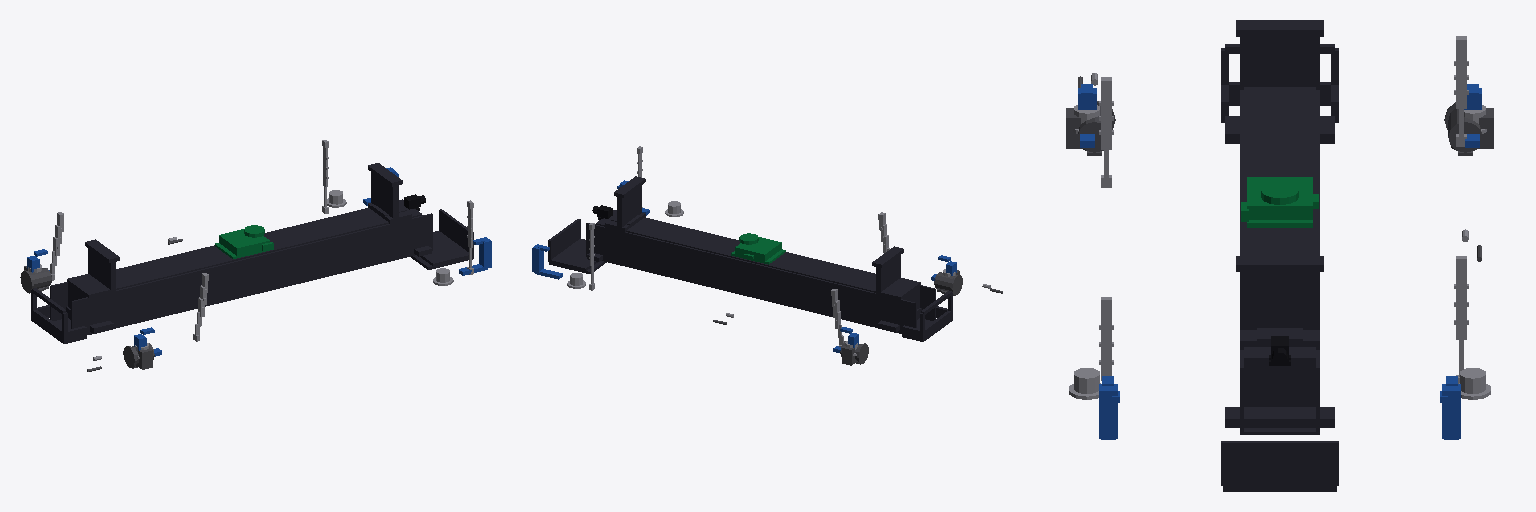
URDF robot description (f1tenth):
<?xml version="1.0"?>
<!--
  RViz-only F1TENTH description. Every joint is fixed and no node publishes
  joint states, so the car sits motionless at base_link: a static model for
  inspecting geometry/placement (see launch/display.launch.py). No Gazebo,
  sensor, plugin, or actuator-coupling elements (a spec non-goal here).

  Joint offsets are the source of truth for vehicle geometry and MUST stay put:
  wheelbase 0.3302 m, track 0.2032 m (0.12065 m each side), wheel radius
  0.0508 m. All meshes are cosmetic and are authored in base_link coordinates
  (see scripts/generate_f1tenth_meshes.py), so each new link's joint origin is
  identity and the mesh renders exactly where it was generated.

  Mesh provenance is documented in meshes/NOTICE.md: hokuyo.stl (the LIDAR),
  left_wheel.stl and right_wheel.stl come from f1tenth-dev/simulator (Apache
  2.0). Everything else (chassis, Jetson board, battery, suspension A-arms,
  shocks, hubs, camera, motors) is originally generated by
  scripts/generate_f1tenth_meshes.py and carries no license concern.

  Run scripts/render_urdf.py after any urdf/mesh edit to sanity-check
  proportions against a reference photo without a live RViz session.
-->
<robot name="f1tenth">

  <material name="laser_grey">
    <color rgba="0.25 0.25 0.27 1.0"/>
  </material>
  <material name="mount_grey">
    <color rgba="0.55 0.55 0.58 1.0"/>
  </material>
  <material name="chassis_grey">
    <color rgba="0.18 0.18 0.22 1.0"/>
  </material>
  <material name="wheel_black">
    <color rgba="0.05 0.05 0.05 1.0"/>
  </material>
  <material name="jetson_green">
    <color rgba="0.06 0.45 0.25 1.0"/>
  </material>
  <material name="battery_black">
    <color rgba="0.08 0.08 0.10 1.0"/>
  </material>
  <material name="camera_dark">
    <color rgba="0.10 0.10 0.12 1.0"/>
  </material>
  <material name="suspension_blue">
    <color rgba="0.15 0.35 0.65 1.0"/>
  </material>
  <material name="motor_metal">
    <color rgba="0.32 0.32 0.34 1.0"/>
  </material>

  <link name="base_link">
    <visual>
      <geometry>
        <mesh filename="package://racing_vehicle_description/meshes/chassis.stl"/>
      </geometry>
      <material name="chassis_grey"/>
    </visual>
  </link>

  <link name="jetson_board">
    <visual>
      <geometry>
        <mesh filename="package://racing_vehicle_description/meshes/jetson_board.stl"/>
      </geometry>
      <material name="jetson_green"/>
    </visual>
  </link>
  <joint name="base_link_to_jetson_board" type="fixed">
    <parent link="base_link"/>
    <child link="jetson_board"/>
  </joint>

  <link name="battery_pack">
    <visual>
      <geometry>
        <mesh filename="package://racing_vehicle_description/meshes/battery_pack.stl"/>
      </geometry>
      <material name="battery_black"/>
    </visual>
  </link>
  <joint name="base_link_to_battery_pack" type="fixed">
    <parent link="base_link"/>
    <child link="battery_pack"/>
  </joint>

  <link name="camera">
    <visual>
      <geometry>
        <mesh filename="package://racing_vehicle_description/meshes/camera_box.stl"/>
      </geometry>
      <material name="camera_dark"/>
    </visual>
  </link>
  <joint name="base_link_to_camera" type="fixed">
    <parent link="base_link"/>
    <child link="camera"/>
  </joint>

  <link name="left_rear_wheel">
    <visual>
      <origin xyz="0 0 0.0225" rpy="0 0 0"/>
      <geometry>
        <mesh filename="package://racing_vehicle_description/meshes/left_wheel.stl"/>
      </geometry>
      <material name="wheel_black"/>
    </visual>
  </link>
  <joint name="base_link_to_left_rear_wheel" type="fixed">
    <parent link="base_link"/>
    <child link="left_rear_wheel"/>
    <origin xyz="-0.0508 0.12065 0.0508" rpy="1.5708 0 0"/>
  </joint>

  <link name="right_rear_wheel">
    <visual>
      <origin xyz="0 0 0.0225" rpy="0 0 0"/>
      <geometry>
        <mesh filename="package://racing_vehicle_description/meshes/right_wheel.stl"/>
      </geometry>
      <material name="wheel_black"/>
    </visual>
  </link>
  <joint name="base_link_to_right_rear_wheel" type="fixed">
    <parent link="base_link"/>
    <child link="right_rear_wheel"/>
    <origin xyz="-0.0508 -0.12065 0.0508" rpy="1.5708 0 0"/>
  </joint>

  <link name="motor_left">
    <visual>
      <geometry>
        <mesh filename="package://racing_vehicle_description/meshes/motor_left.stl"/>
      </geometry>
      <material name="motor_metal"/>
    </visual>
  </link>
  <joint name="base_link_to_motor_left" type="fixed">
    <parent link="base_link"/>
    <child link="motor_left"/>
  </joint>

  <link name="motor_right">
    <visual>
      <geometry>
        <mesh filename="package://racing_vehicle_description/meshes/motor_right.stl"/>
      </geometry>
      <material name="motor_metal"/>
    </visual>
  </link>
  <joint name="base_link_to_motor_right" type="fixed">
    <parent link="base_link"/>
    <child link="motor_right"/>
  </joint>

  <link name="rear_suspension_left">
    <visual>
      <geometry>
        <mesh filename="package://racing_vehicle_description/meshes/rear_susp_left.stl"/>
      </geometry>
      <material name="suspension_blue"/>
    </visual>
  </link>
  <joint name="base_link_to_rear_suspension_left" type="fixed">
    <parent link="base_link"/>
    <child link="rear_suspension_left"/>
  </joint>

  <link name="rear_suspension_right">
    <visual>
      <geometry>
        <mesh filename="package://racing_vehicle_description/meshes/rear_susp_right.stl"/>
      </geometry>
      <material name="suspension_blue"/>
    </visual>
  </link>
  <joint name="base_link_to_rear_suspension_right" type="fixed">
    <parent link="base_link"/>
    <child link="rear_suspension_right"/>
  </joint>

  <link name="rear_shock_left">
    <visual>
      <geometry>
        <mesh filename="package://racing_vehicle_description/meshes/rear_shock_left.stl"/>
      </geometry>
      <material name="mount_grey"/>
    </visual>
  </link>
  <joint name="base_link_to_rear_shock_left" type="fixed">
    <parent link="base_link"/>
    <child link="rear_shock_left"/>
  </joint>

  <link name="rear_shock_right">
    <visual>
      <geometry>
        <mesh filename="package://racing_vehicle_description/meshes/rear_shock_right.stl"/>
      </geometry>
      <material name="mount_grey"/>
    </visual>
  </link>
  <joint name="base_link_to_rear_shock_right" type="fixed">
    <parent link="base_link"/>
    <child link="rear_shock_right"/>
  </joint>

  <link name="rear_hub_left">
    <visual>
      <geometry>
        <mesh filename="package://racing_vehicle_description/meshes/rear_hub_left.stl"/>
      </geometry>
      <material name="mount_grey"/>
    </visual>
  </link>
  <joint name="base_link_to_rear_hub_left" type="fixed">
    <parent link="base_link"/>
    <child link="rear_hub_left"/>
  </joint>

  <link name="rear_hub_right">
    <visual>
      <geometry>
        <mesh filename="package://racing_vehicle_description/meshes/rear_hub_right.stl"/>
      </geometry>
      <material name="mount_grey"/>
    </visual>
  </link>
  <joint name="base_link_to_rear_hub_right" type="fixed">
    <parent link="base_link"/>
    <child link="rear_hub_right"/>
  </joint>

  <link name="left_steering_hinge"/>
  <joint name="base_link_to_left_steering_hinge" type="fixed">
    <parent link="base_link"/>
    <child link="left_steering_hinge"/>
    <origin xyz="0.3810 0.12065 0.0508" rpy="0 0 0"/>
  </joint>

  <link name="right_steering_hinge"/>
  <joint name="base_link_to_right_steering_hinge" type="fixed">
    <parent link="base_link"/>
    <child link="right_steering_hinge"/>
    <origin xyz="0.3810 -0.12065 0.0508" rpy="0 0 0"/>
  </joint>

  <link name="left_front_wheel">
    <visual>
      <origin xyz="0 0 0.0225" rpy="0 0 0"/>
      <geometry>
        <mesh filename="package://racing_vehicle_description/meshes/left_wheel.stl"/>
      </geometry>
      <material name="wheel_black"/>
    </visual>
  </link>
  <joint name="left_steering_hinge_to_left_front_wheel" type="fixed">
    <parent link="left_steering_hinge"/>
    <child link="left_front_wheel"/>
    <origin xyz="0 0 0" rpy="1.5708 0 0"/>
  </joint>

  <link name="right_front_wheel">
    <visual>
      <origin xyz="0 0 0.0225" rpy="0 0 0"/>
      <geometry>
        <mesh filename="package://racing_vehicle_description/meshes/right_wheel.stl"/>
      </geometry>
      <material name="wheel_black"/>
    </visual>
  </link>
  <joint name="right_steering_hinge_to_right_front_wheel" type="fixed">
    <parent link="right_steering_hinge"/>
    <child link="right_front_wheel"/>
    <origin xyz="0 0 0" rpy="1.5708 0 0"/>
  </joint>

  <link name="front_suspension_left">
    <visual>
      <geometry>
        <mesh filename="package://racing_vehicle_description/meshes/front_susp_left.stl"/>
      </geometry>
      <material name="suspension_blue"/>
    </visual>
  </link>
  <joint name="base_link_to_front_suspension_left" type="fixed">
    <parent link="base_link"/>
    <child link="front_suspension_left"/>
  </joint>

  <link name="front_suspension_right">
    <visual>
      <geometry>
        <mesh filename="package://racing_vehicle_description/meshes/front_susp_right.stl"/>
      </geometry>
      <material name="suspension_blue"/>
    </visual>
  </link>
  <joint name="base_link_to_front_suspension_right" type="fixed">
    <parent link="base_link"/>
    <child link="front_suspension_right"/>
  </joint>

  <link name="front_shock_left">
    <visual>
      <geometry>
        <mesh filename="package://racing_vehicle_description/meshes/front_shock_left.stl"/>
      </geometry>
      <material name="mount_grey"/>
    </visual>
  </link>
  <joint name="base_link_to_front_shock_left" type="fixed">
    <parent link="base_link"/>
    <child link="front_shock_left"/>
  </joint>

  <link name="front_shock_right">
    <visual>
      <geometry>
        <mesh filename="package://racing_vehicle_description/meshes/front_shock_right.stl"/>
      </geometry>
      <material name="mount_grey"/>
    </visual>
  </link>
  <joint name="base_link_to_front_shock_right" type="fixed">
    <parent link="base_link"/>
    <child link="front_shock_right"/>
  </joint>

  <link name="front_hub_left">
    <visual>
      <geometry>
        <mesh filename="package://racing_vehicle_description/meshes/front_hub_left.stl"/>
      </geometry>
      <material name="mount_grey"/>
    </visual>
  </link>
  <joint name="base_link_to_front_hub_left" type="fixed">
    <parent link="base_link"/>
    <child link="front_hub_left"/>
  </joint>

  <link name="front_hub_right">
    <visual>
      <geometry>
        <mesh filename="package://racing_vehicle_description/meshes/front_hub_right.stl"/>
      </geometry>
      <material name="mount_grey"/>
    </visual>
  </link>
  <joint name="base_link_to_front_hub_right" type="fixed">
    <parent link="base_link"/>
    <child link="front_hub_right"/>
  </joint>

  <link name="laser">
    <visual>
      <geometry>
        <mesh filename="package://racing_vehicle_description/meshes/hokuyo.stl"
               scale="0.12 0.12 0.12"/>
      </geometry>
      <material name="laser_grey"/>
    </visual>
  </link>
  <joint name="base_link_to_laser" type="fixed">
    <parent link="base_link"/>
    <child link="laser"/>
    <origin xyz="0.275 0.0 0.105" rpy="0 0 0"/>
  </joint>

</robot>

--- What the picture shows (computed from the rendered views, not written in the file) ---
Views: 3 orthographic renders of the robot side by side, from view 1: azimuth 30°, elevation 25°; view 2: azimuth 150°, elevation 25°; view 3: azimuth 270°, elevation 25°.
Robot: f1tenth — 25 links, 24 joints (24 fixed); root link base_link; default pose: all joints at 0.
Links seen in each view (by area): view 1: base_link, jetson_board, motor_right, motor_left, front_suspension_right; view 2: base_link, jetson_board, motor_right; view 3: base_link, jetson_board, motor_left, front_suspension_left, front_suspension_right, front_shock_left, rear_shock_right, rear_shock_left, motor_right, front_shock_right, front_hub_left, front_hub_right (+3 smaller).
Boxes of the visible links, <box> form: base_link: <box>31,163,473,343</box>; jetson_board: <box>215,225,273,258</box>; motor_right: <box>87,343,154,371</box>; motor_left: <box>20,239,182,293</box>; front_suspension_right: <box>459,237,491,275</box>; base_link: <box>548,176,952,341</box>; jetson_board: <box>731,233,785,264</box>; motor_right: <box>934,270,1002,295</box>; base_link: <box>1221,20,1338,491</box>; jetson_board: <box>1241,177,1318,227</box>; motor_left: <box>1444,102,1493,261</box>; front_suspension_left: <box>1440,376,1460,439</box>; front_suspension_right: <box>1099,376,1119,439</box>; front_shock_left: <box>1454,256,1468,383</box>; rear_shock_right: <box>1099,77,1113,187</box>; rear_shock_left: <box>1454,36,1468,146</box>; motor_right: <box>1066,76,1115,155</box>; front_shock_right: <box>1099,297,1113,380</box>; front_hub_left: <box>1459,368,1490,399</box>; front_hub_right: <box>1069,368,1100,399</box>.
Size in the robot's own frame: 0.467 by 0.2252 by 0.097 metres.
18 mesh visuals loaded from 21 distinct referenced files (18 binary STL); not drawn: 5 (reference not matched to a file when rendering).
